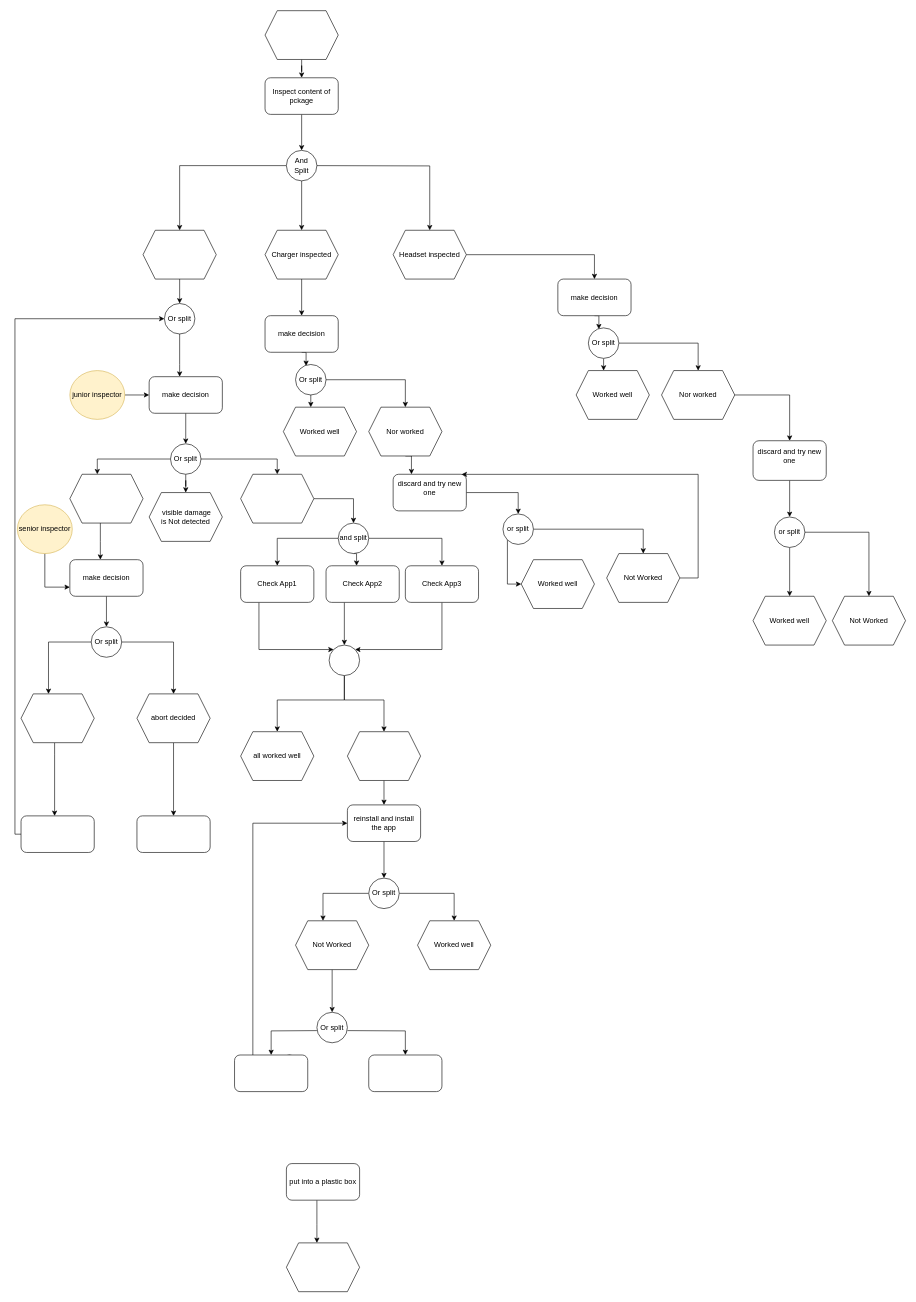
Image size: 916x1302. Some labels were removed from this diagram. The centre of each missing label's shape, as x and y in pixels:
"all or one Not worked well" belongs at (x=384, y=755).
"customer delivered" belongs at (x=323, y=1267).
"entire process stops" belongs at (x=173, y=833).
"Inspected softwate installation" belongs at (x=277, y=498).
"items purchased" belongs at (x=301, y=34).
"Or join" belongs at (x=344, y=660).
"repair decided" belongs at (x=57, y=718).
"repair the damage immediately" belongs at (x=57, y=833).
"Tablet inspected" belongs at (x=179, y=254).
"try <5" belongs at (x=271, y=1073).
"try =5" belongs at (x=405, y=1073).
"visible damage is detected" belongs at (x=106, y=498).
